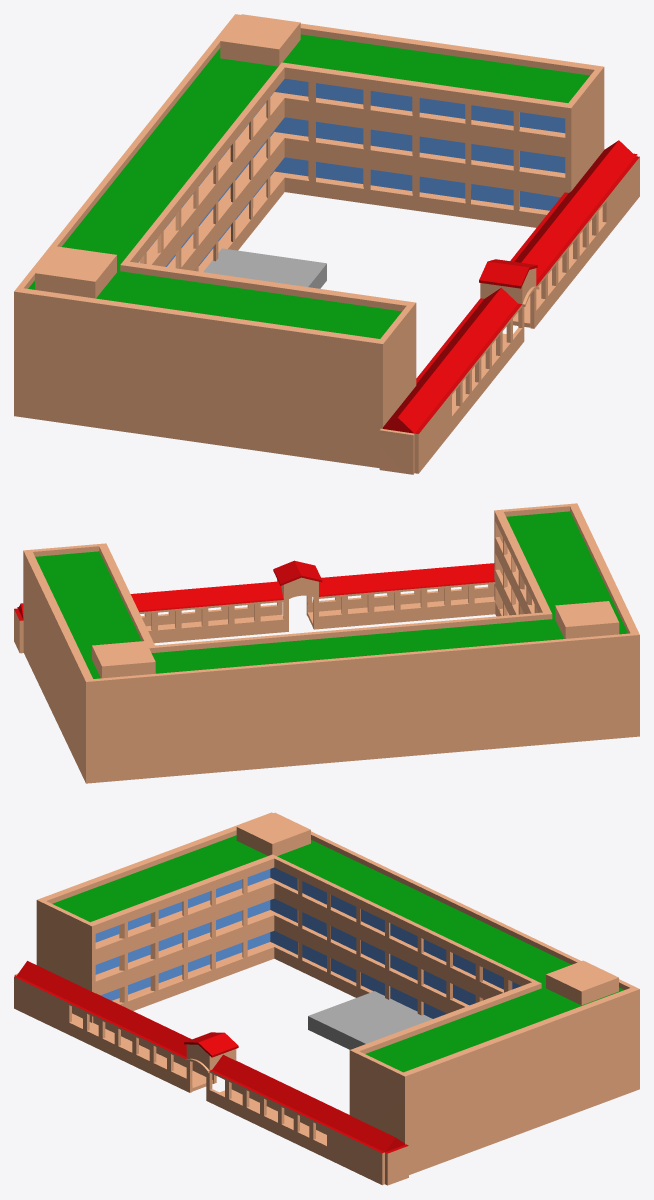
Rendered from skul.fbx.
The picture shows the model from 3 angles, top to bottom: view 1: azimuth 30°, elevation 25°; view 2: azimuth 150°, elevation 25°; view 3: azimuth 270°, elevation 25°; orthographic projection. The views are drawn at different scales.
Parts seen in each view (by area): view 1: skul; view 2: skul; view 3: skul.
Boxes of the visible parts, box(x1,y1,x2,y2) form: skul: box(14, 14, 639, 474); skul: box(14, 503, 639, 783); skul: box(14, 812, 639, 1185).
Size of the model in its own units: 3673 by 686 by 3560.
